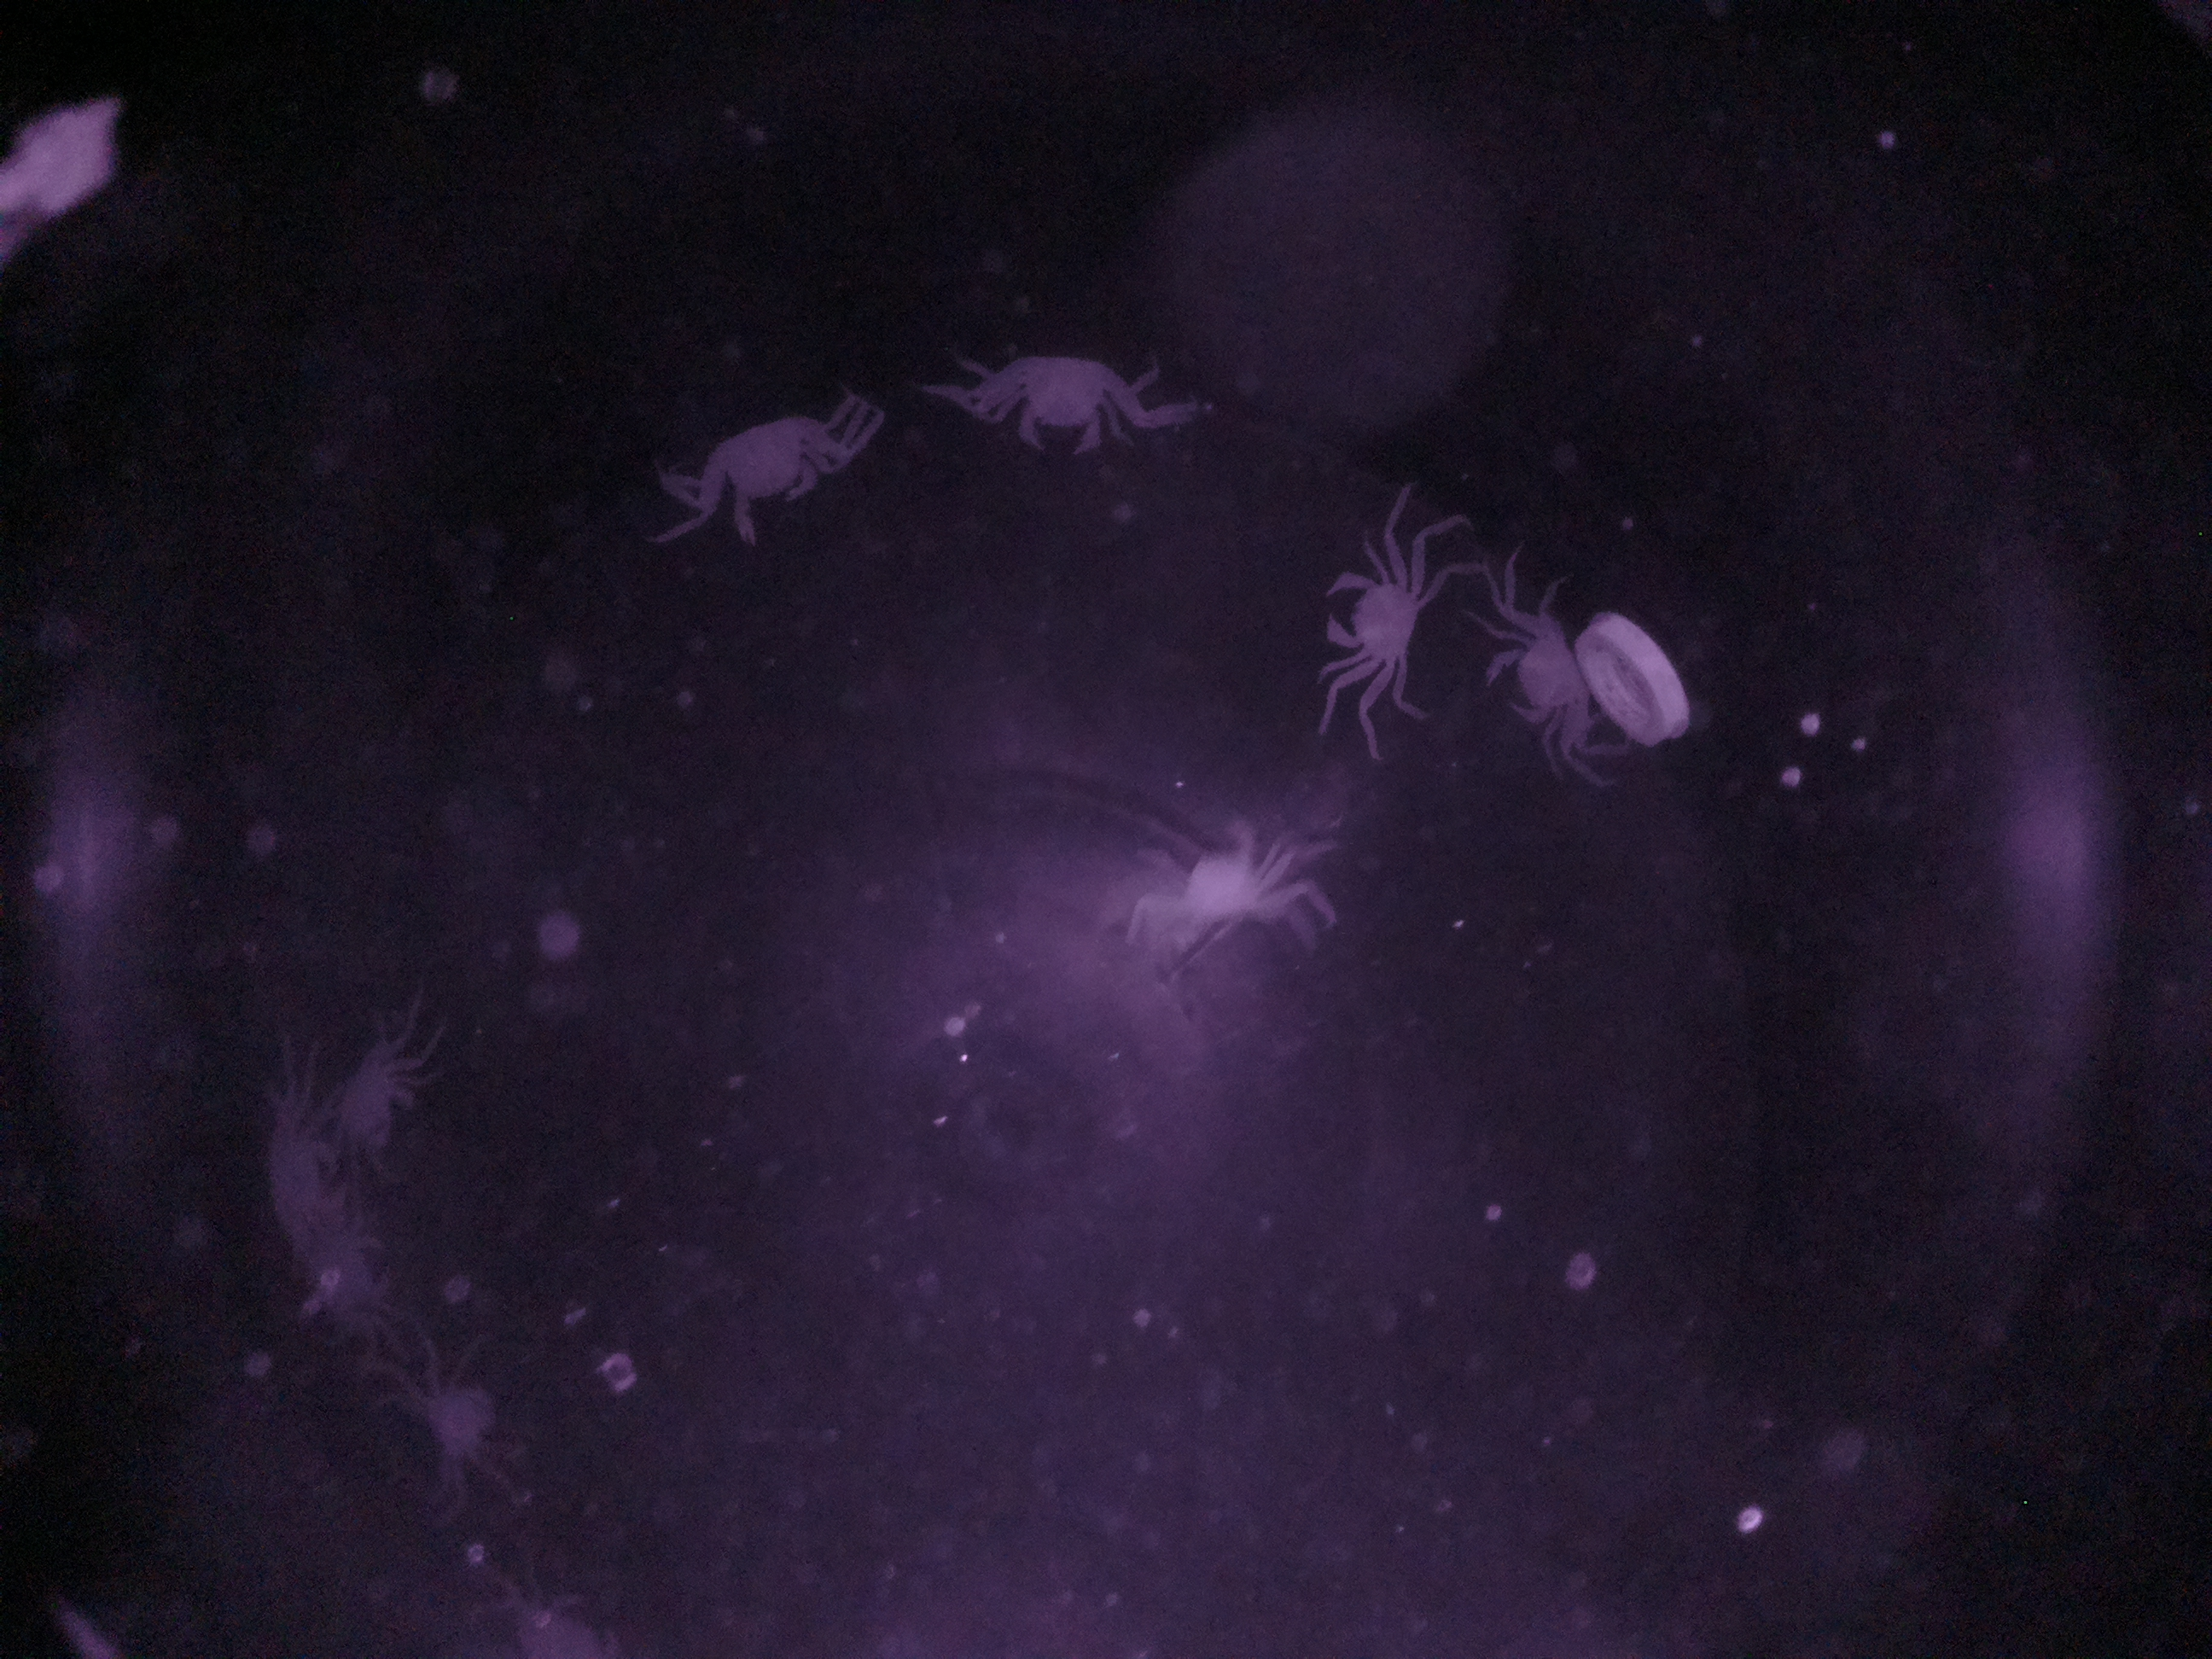Crab: (681, 385, 843, 570), (961, 321, 1153, 476), (1308, 532, 1453, 695), (1467, 603, 1602, 758)
